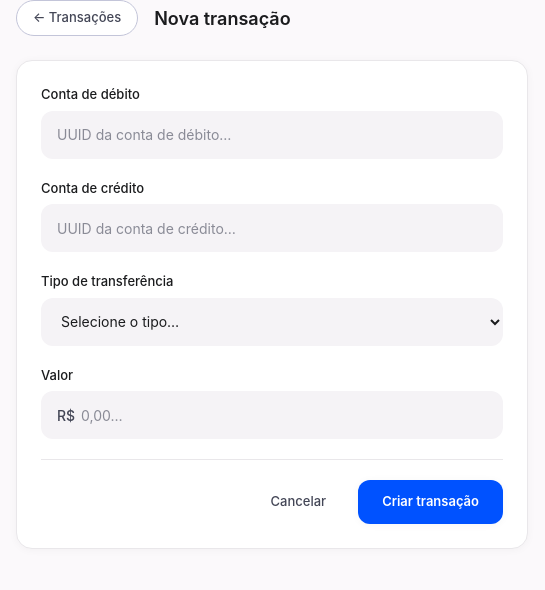
Test case: web/CreateTransactionView — TI-04 › rejeita UUID inválido na conta de débito
This screenshot has width=545, height=590.
In the field labelled "Conta de débito": (272, 134) [41,110,503,158], type "nao-e-uuid"
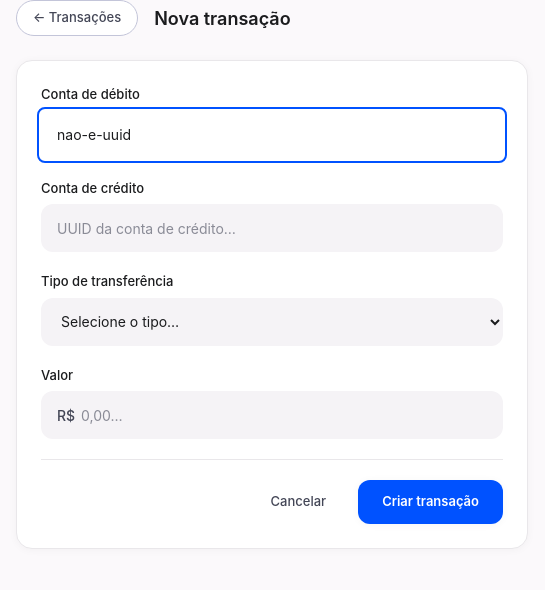
In the field labelled "Conta de crédito": (272, 228) [41,204,503,252], type "0199f9c2-1a2b-7c8d-9e0f-200000000002"
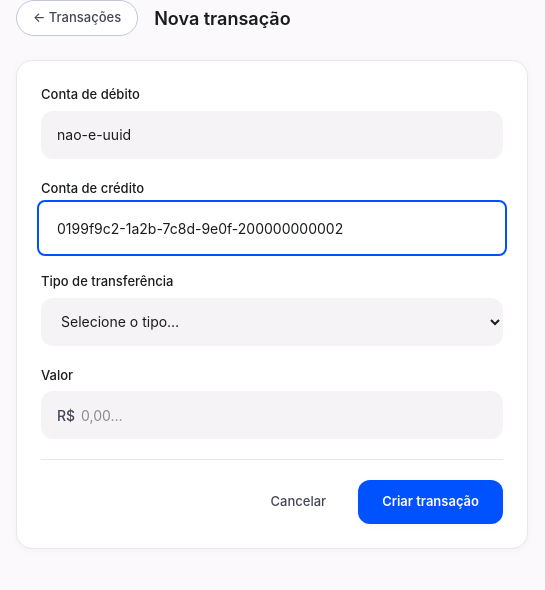
Select "Pix" in the dropdown labelled "Tipo de transferência": (272, 322) [41,298,503,346]
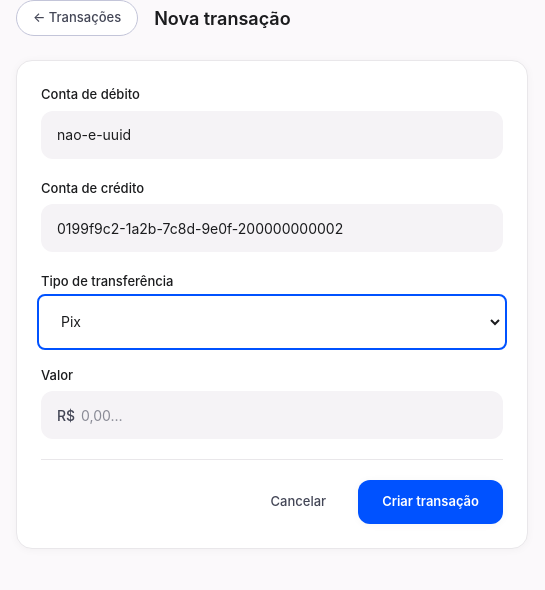
In the field labelled "Valor": (272, 415) [41,391,503,439], type "1000"
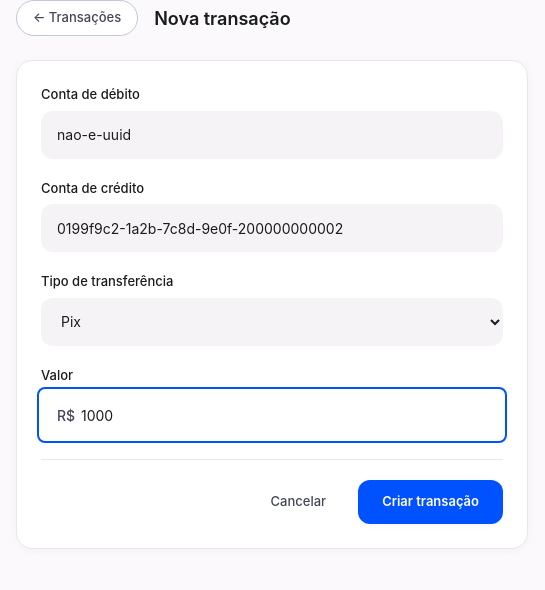
Click the button "Criar transação": click(431, 502) [358,480,503,524]
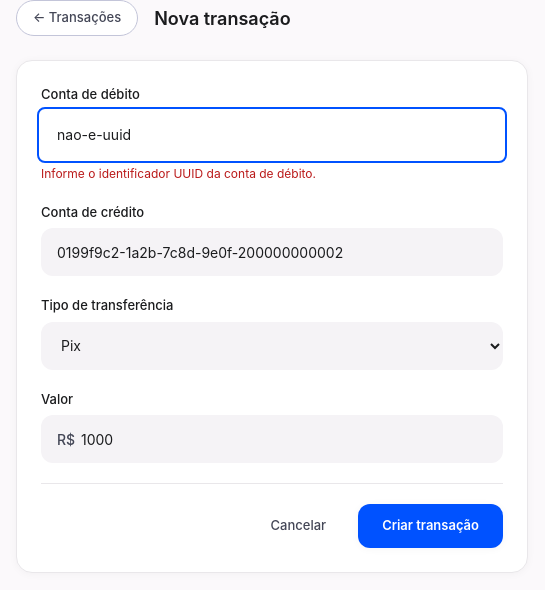
Check: the message "Informe o identificador UUID da conta de débito." is shown, box [41,166,316,180]
